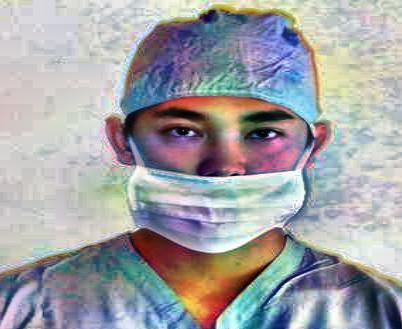mask_weared_incorrect: (109, 9, 333, 252)
